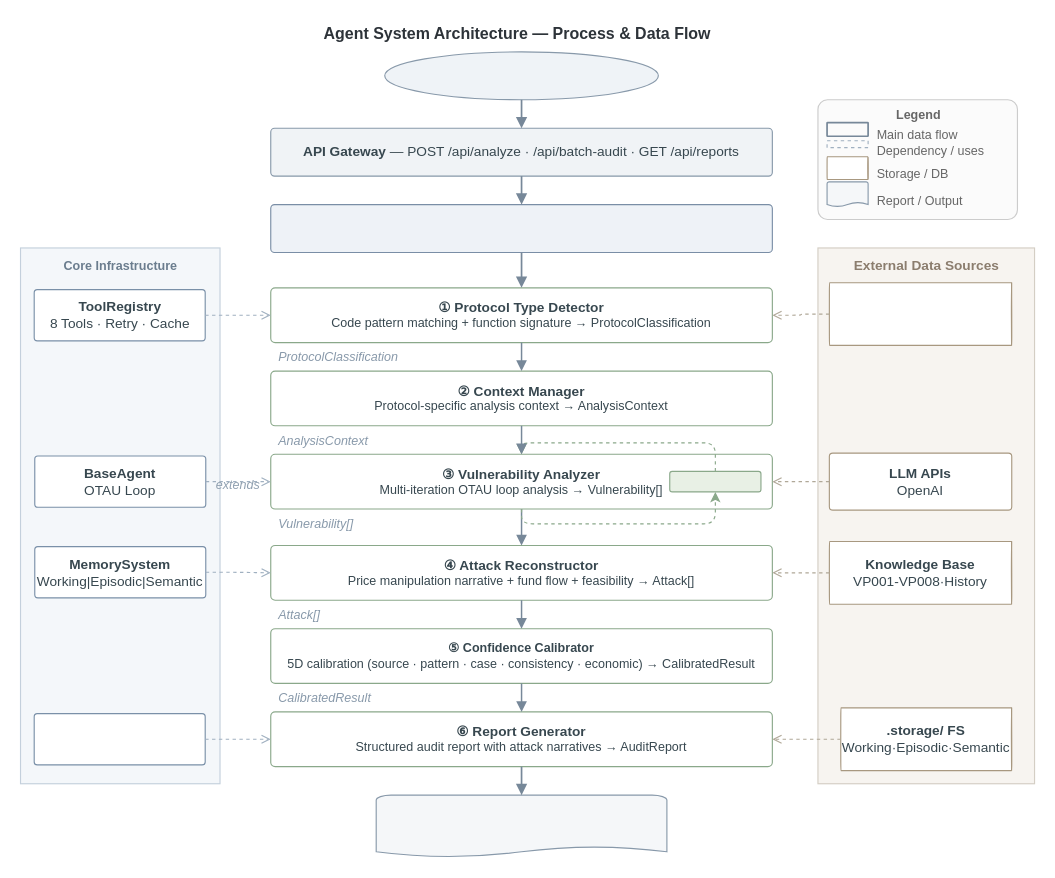
Image size: 1055x878. Some labels were removed from this diagram. The centre of each missing label's shape, as x and y in pixels:
Audit Report PDF / JSON / UI: pixel 521 826
AuditOrchestrator — Multi-Agent Scheduling · Coordination · Timeout Control: pixel 521 228
Blockchain APIs Etherscan·Sourcify·Heimdall: pixel 920 313
Contract Address / Source Code: pixel 521 75
LLMClient OpenAI: pixel 119 738
⟳ OTAU Loop: pixel 715 481
